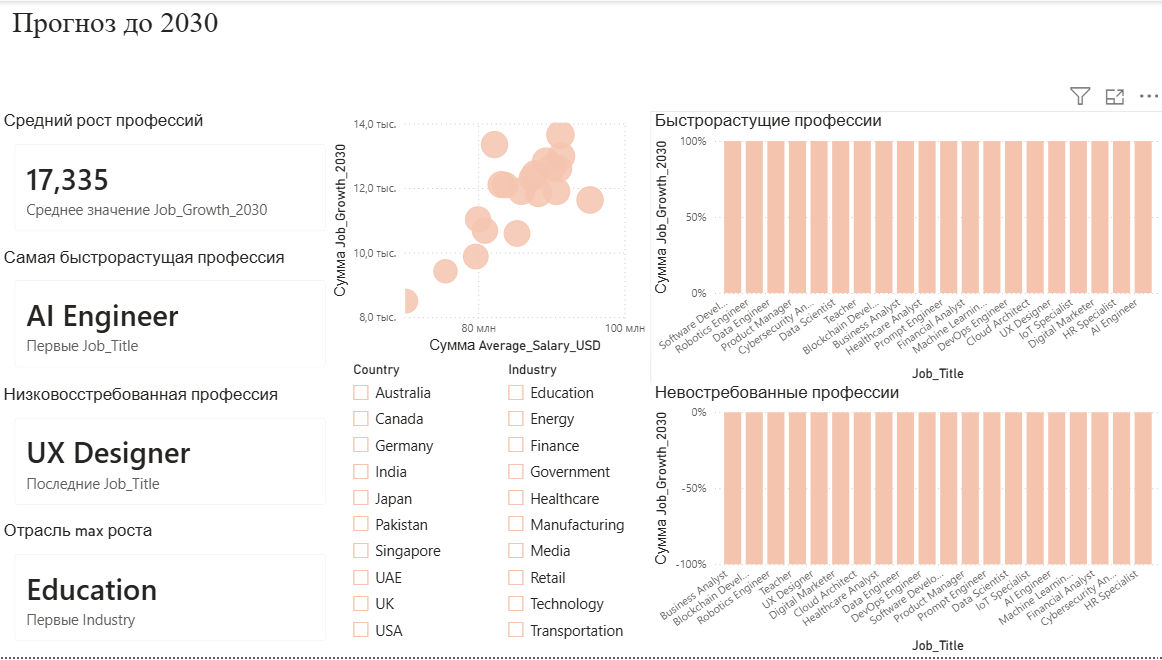

Layout of this report page (visuals, bound fields, positions):
{"tool":"powerbi","page":{"name":"Выводы","canvas":[1280,720],"ordinal":5},"visuals":[{"type":"textbox","box":[9.6,0,376,57.6],"z":0},{"type":"cardVisual","title":"Самая быстрорастущая профессия","fields":{"Data":["Min(ai_jobs.Job_Title)"]},"box":[0,270.3,376,150],"z":1000},{"type":"cardVisual","title":"Низковосстребованная профессия","fields":{"Data":["Max(ai_jobs.Job_Title)"]},"box":[0,421.3,376,150],"z":2000},{"type":"cardVisual","title":"Отрасль max роста","fields":{"Data":["Min(ai_jobs.Industry)"]},"box":[0,570.8,376,150],"z":3000},{"type":"cardVisual","title":"Средний рост профессий","fields":{"Data":["Avg(ai_jobs.Job_Growth_2030)"]},"box":[0,120.8,376,150],"z":4000},{"type":"slicer","fields":{"Values":["ai_jobs.Country"]},"box":[376,391.1,170.2,329.3],"z":5000},{"type":"slicer","fields":{"Values":["ai_jobs.Industry"]},"box":[546.1,391.1,170.2,329.3],"z":6000},{"type":"hundredPercentStackedColumnChart","title":"Быстрорастущие профессии","fields":{"Category":["ai_jobs.Job_Title"],"Y":["Sum(ai_jobs.Job_Growth_2030)"]},"box":[714.9,120.8,565.4,301.9],"z":7000},{"type":"hundredPercentStackedColumnChart","title":"Невостребованные профессии","fields":{"Category":["ai_jobs.Job_Title"],"Y":["Sum(ai_jobs.Job_Growth_2030)"]},"box":[714.9,418.5,565.4,301.9],"z":8000},{"type":"scatterChart","fields":{"X":["Sum(ai_jobs.Average_Salary_USD)"],"Y":["Sum(ai_jobs.Job_Growth_2030)"],"Category":["ai_jobs.Job_Title"],"Size":["Sum(ai_jobs.Future_Demand_Score)"]},"box":[362.3,120.8,352.7,270.3],"z":9000}]}

Visuals, with their boxes in screenshot pixels (x1, y1, x2, y2), scaled from the page's 1280x720 canvas onto the 1162x660 screenshot:
textbox: bbox(9, 0, 350, 53)
"Самая быстрорастущая профессия" cardVisual: bbox(0, 248, 341, 385)
"Низковосстребованная профессия" cardVisual: bbox(0, 386, 341, 524)
"Отрасль max роста" cardVisual: bbox(0, 523, 341, 659)
"Средний рост профессий" cardVisual: bbox(0, 111, 341, 248)
slicer - ai_jobs.Country: bbox(341, 359, 496, 659)
slicer - ai_jobs.Industry: bbox(496, 359, 650, 659)
"Быстрорастущие профессии" hundredPercentStackedColumnChart: bbox(649, 111, 1161, 387)
"Невостребованные профессии" hundredPercentStackedColumnChart: bbox(649, 384, 1161, 659)
scatterChart - Sum(ai_jobs.Average_Salary_USD) x Sum(ai_jobs.Job_Growth_2030): bbox(329, 111, 649, 359)
